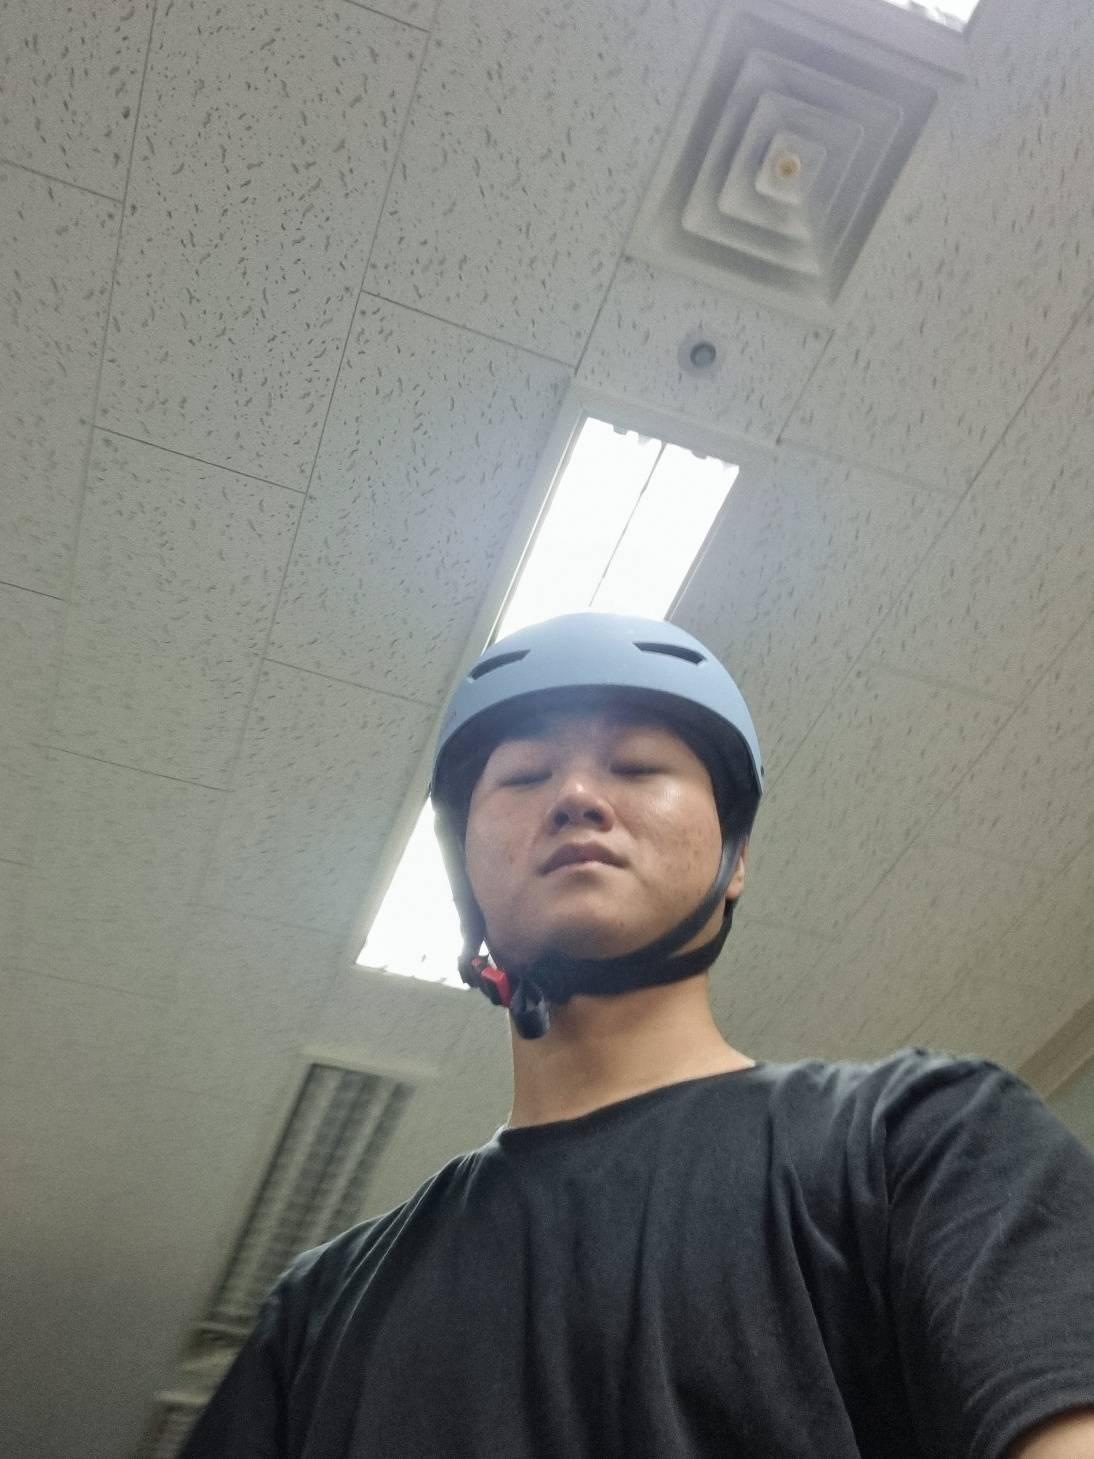Helmet: (380, 559, 834, 1047)
